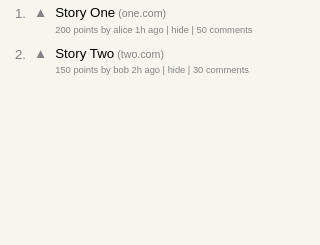
it: StoryList › expands story details on click
This screenshot has width=320, height=245.
// Click on comments link for first story
Click the link "50 comments". click: x=202, y=30
box: [196,25,252,35]
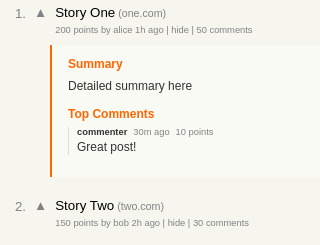
Expected: the text "Detailed summary here" is shown, [68,79,192,93]
Expected: the text "Great post!" is shown, [77,140,136,154]
